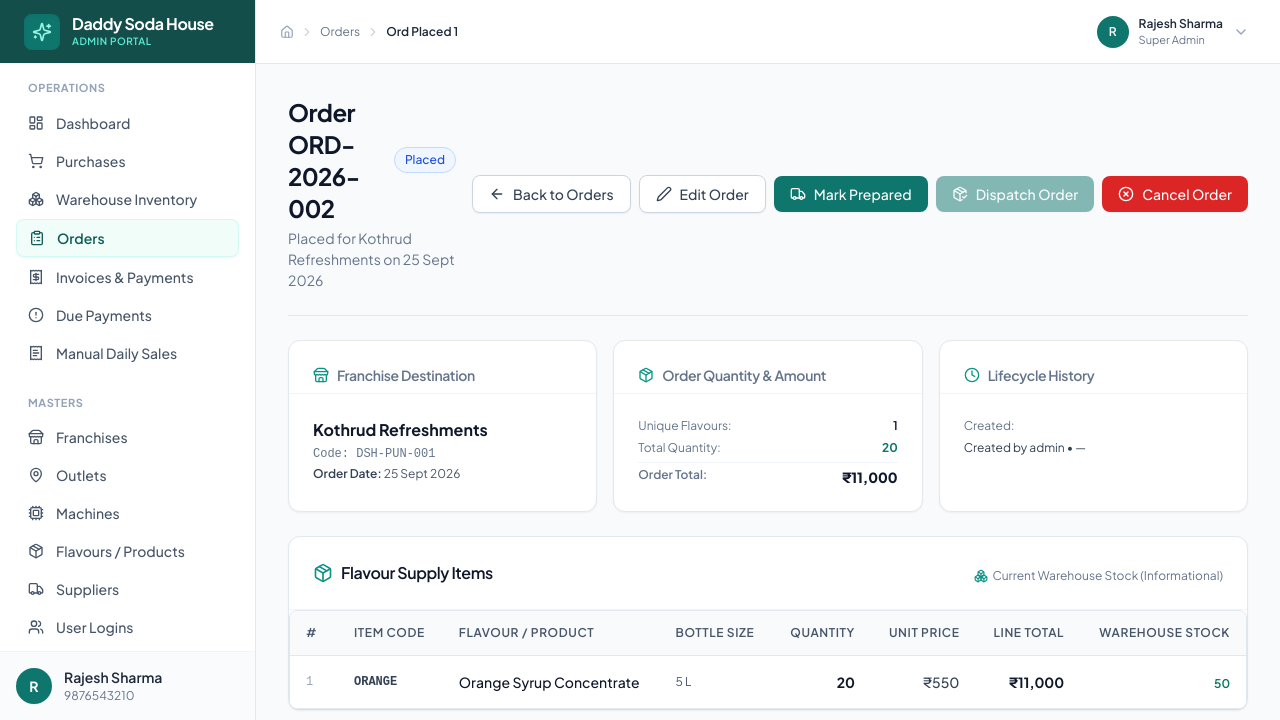
Test case: Daddy Soda House Franchise Orders & Delivery Module (FE-04) › requires a cancellation reason before submitting cancellation
// Open Cancel Modal
Click the button "Cancel Order".
click(1175, 194)  # box x1=1102 y1=176 x2=1248 y2=212
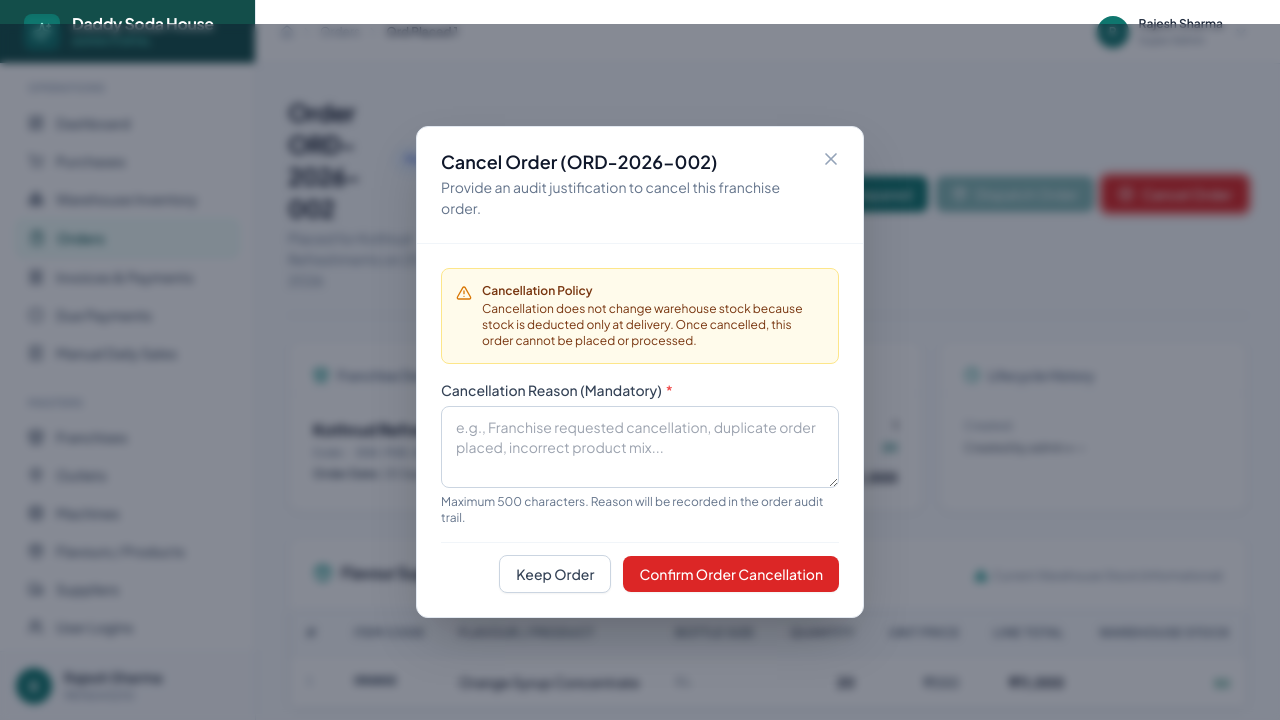
Expected: the heading "Cancel Order (ORD-2026-002)" is shown, x1=441 y1=150 x2=717 y2=173
// Confirm cancel without entering reason
Click the button "Confirm Order Cancellation".
click(731, 574)  # box x1=623 y1=556 x2=839 y2=592
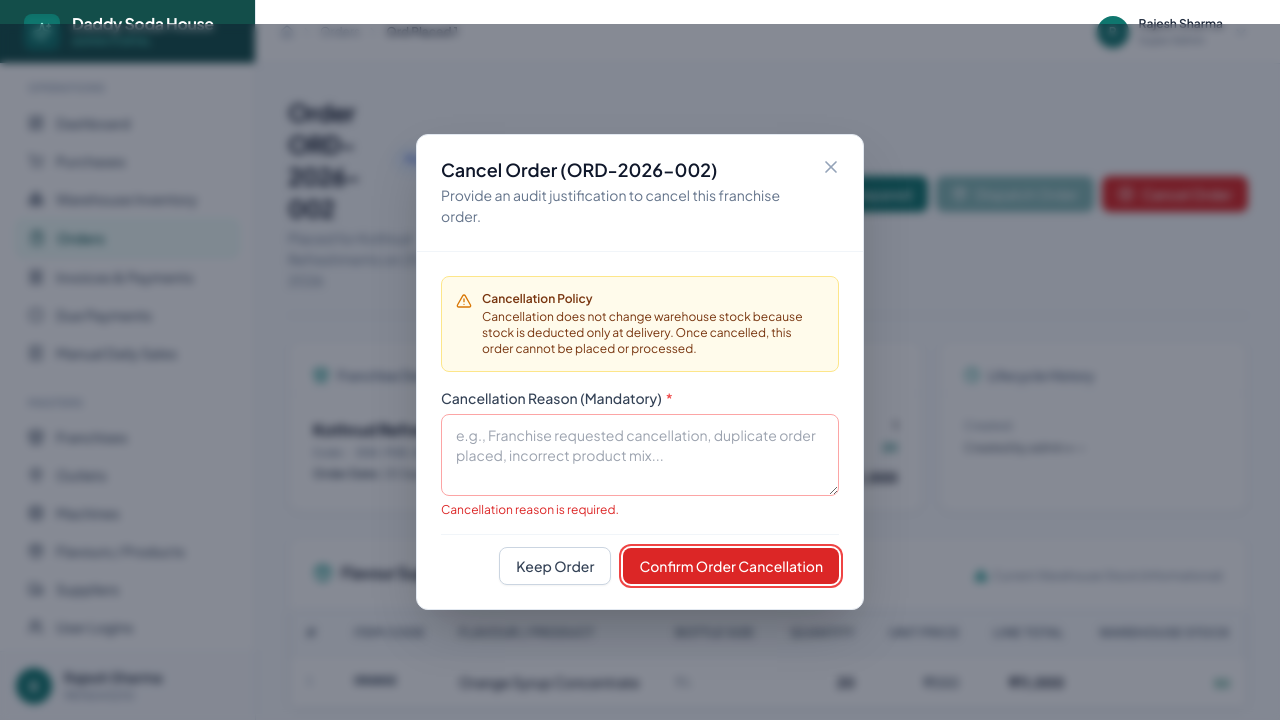
Expected: the text "Cancellation reason is required." is shown, x1=441 y1=502 x2=619 y2=517
